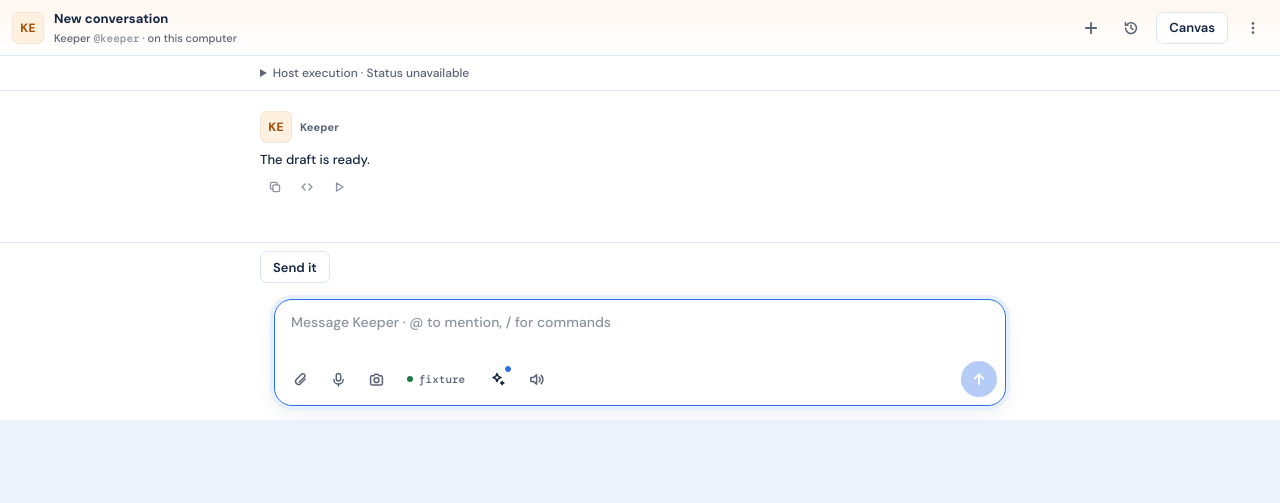
Test: taking a chip › brings it back with the refusal when the take fails
Click the button "Send it": (295, 267) [260,251,330,283]
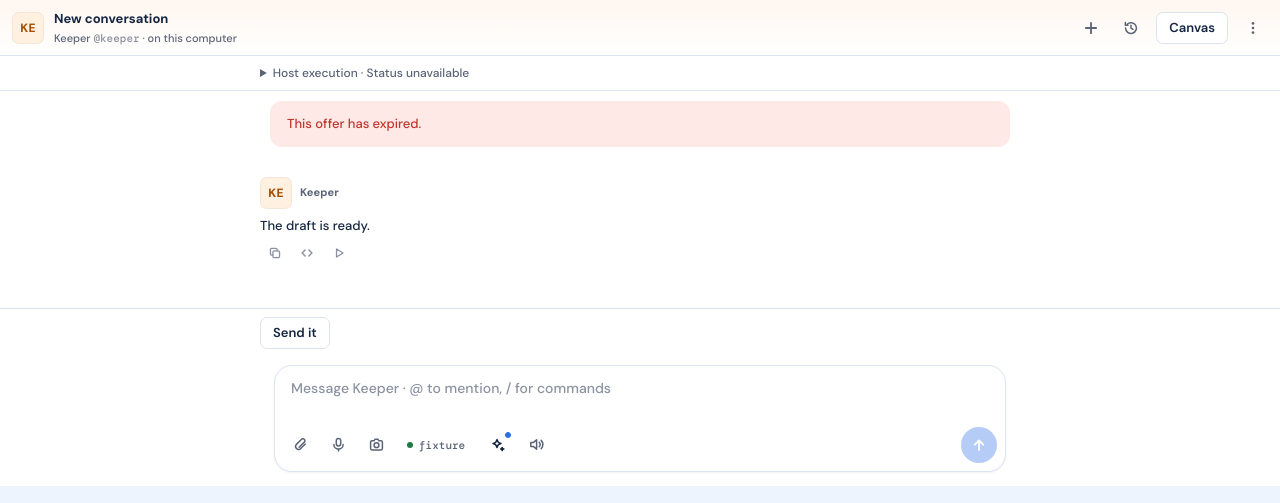
Check: the button "Send it" is shown, box [260,316,330,348]
Check: the text "This offer has expired." is shown, box [270,101,1010,146]
